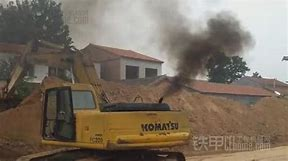smoke: (143, 7, 253, 95)
